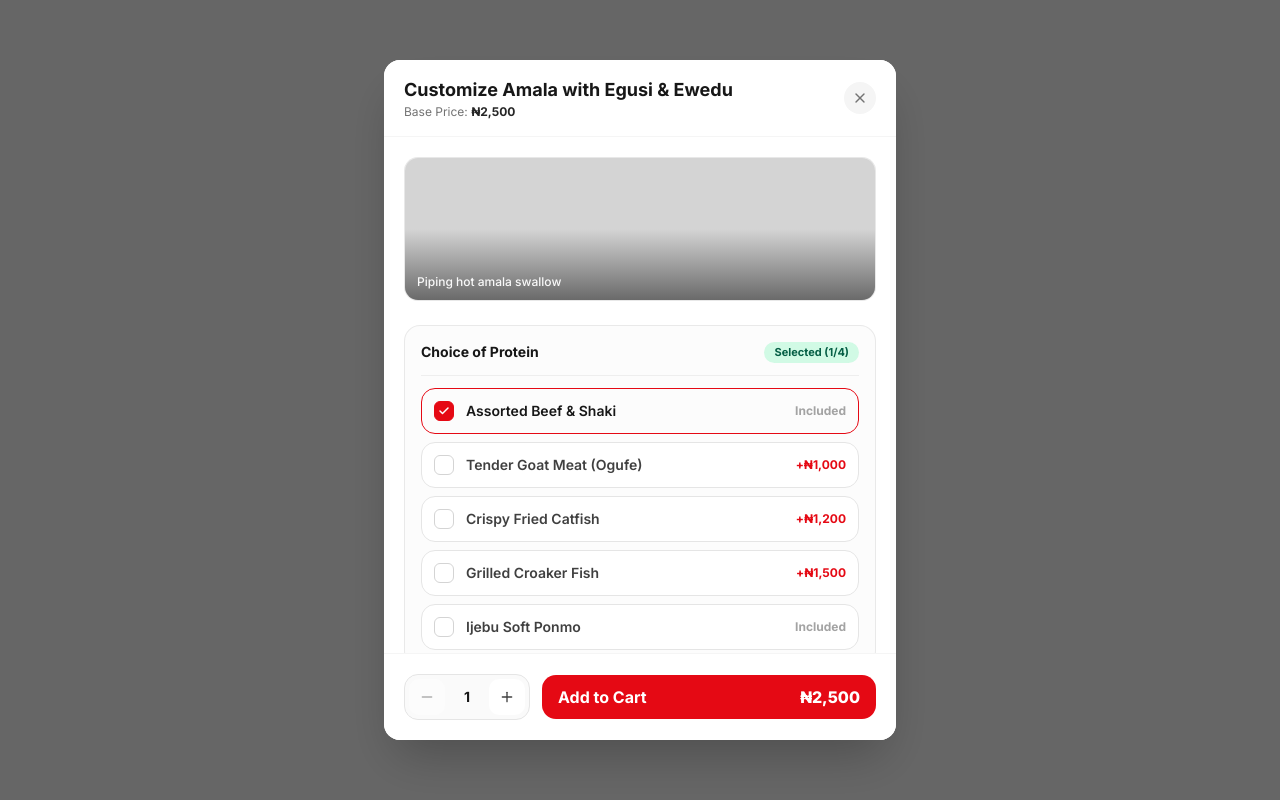
Test: ProductCustomizationModal › updates total price dynamically when selecting extra modifier options
Note: Select Tender Goat Meat (extra ₦1,000)
Click the text "Tender Goat Meat (Ogufe)" at (554, 464), box [466,454,642,474]
(page scrolled)
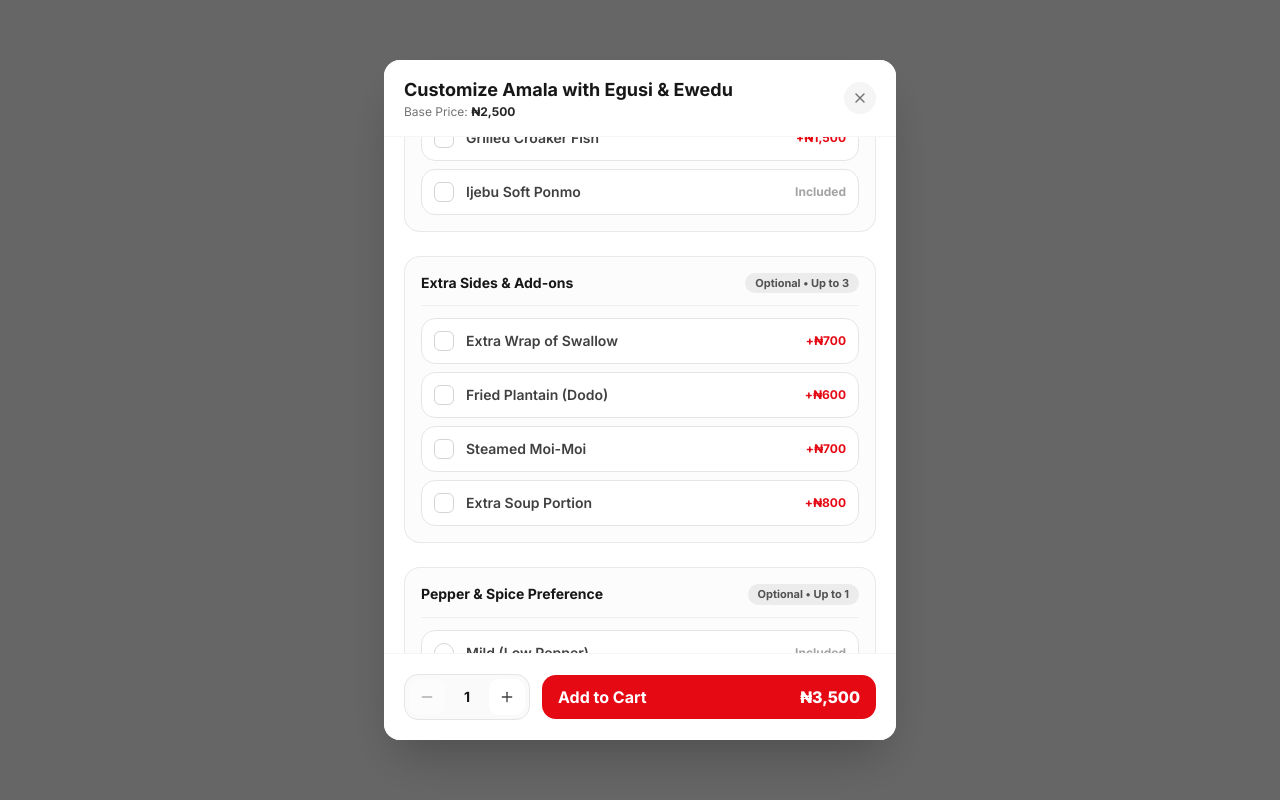
Check: the text "₦3,500" is shown, box [800,685,860,709]
Note: Select Fried Plantain (Dodo) (extra ₦600)
Click the text "Fried Plantain (Dodo)" at (537, 395), box [466,385,608,405]
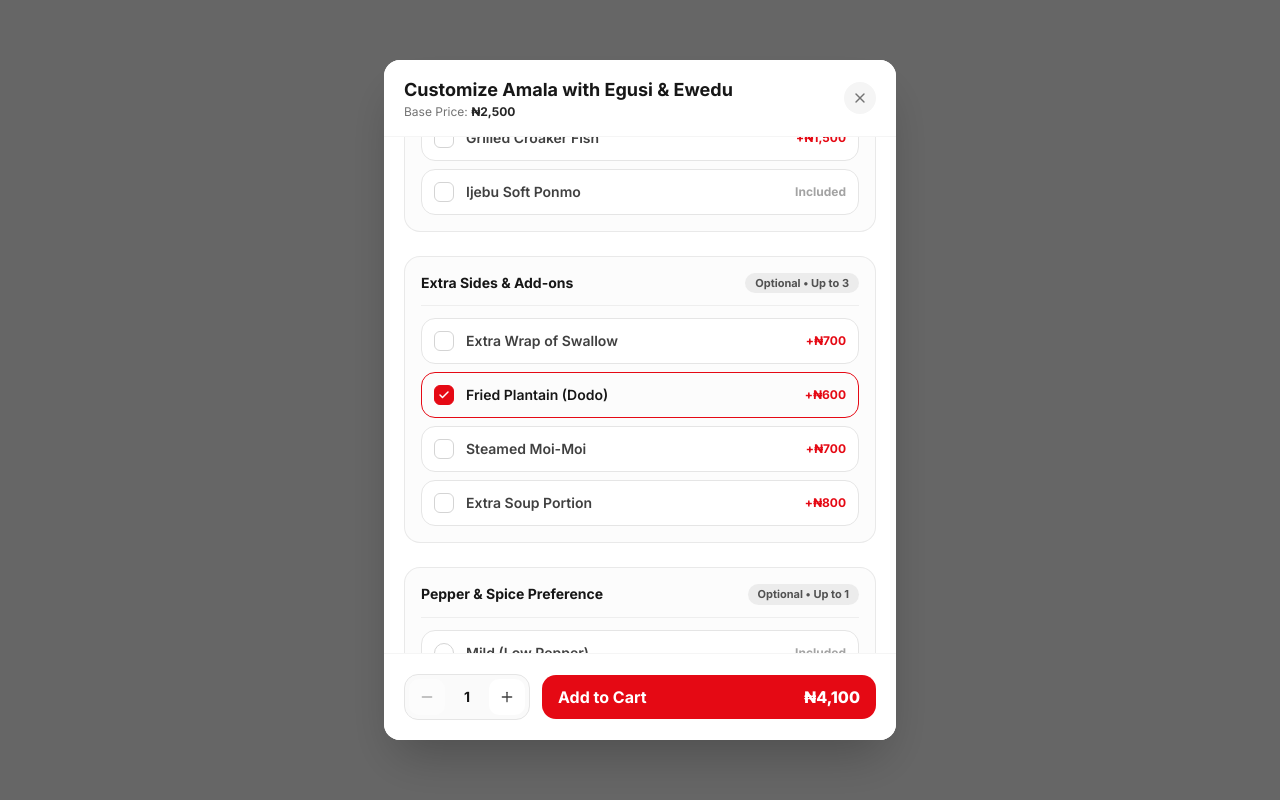
Check: the text "₦4,100" is shown, box [804,685,860,709]
